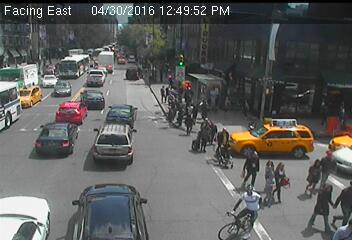neg: (16, 148, 51, 195), (37, 76, 70, 120), (149, 29, 180, 71), (284, 36, 310, 71), (260, 32, 284, 64), (305, 41, 327, 71), (207, 32, 229, 61), (64, 67, 84, 94), (108, 38, 128, 63), (234, 33, 253, 58), (101, 72, 119, 95), (6, 111, 22, 132), (193, 30, 209, 51), (87, 142, 102, 163), (112, 194, 117, 202)
pos: (288, 151, 325, 200), (221, 184, 257, 232), (235, 149, 263, 186), (270, 159, 297, 195), (217, 126, 233, 148), (149, 83, 165, 104), (181, 112, 195, 132)
